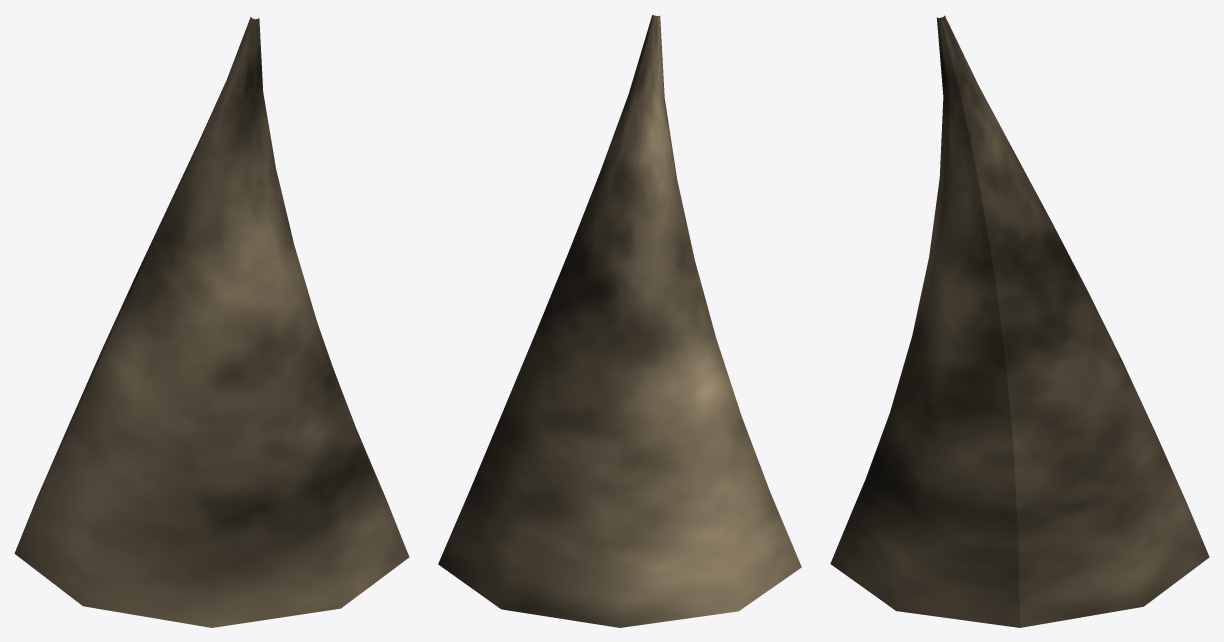
Rendered from stalagmite.glb.
3 renders of one model, left to right at view 1: azimuth 30°, elevation 25°; view 2: azimuth 150°, elevation 25°; view 3: azimuth 270°, elevation 25°, orthographic. The views are drawn at different scales.
Bounding box in the file's own units: 0.8923 × 1.41 × 0.9059.
Materials: 1 (1 with a texture image).
